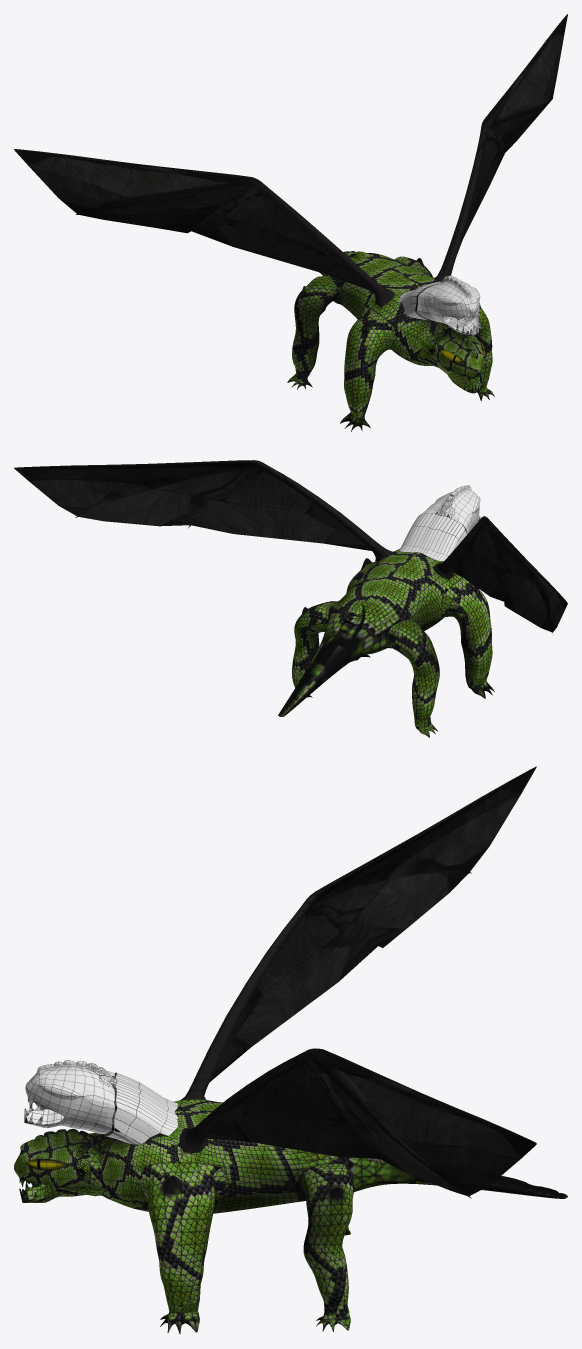
Rendered from monster_000001.obj.
3 renders of one model, top to bottom at view 1: azimuth 30°, elevation 25°; view 2: azimuth 150°, elevation 25°; view 3: azimuth 270°, elevation 25°, orthographic. The views are drawn at different scales.
Visible parts, largest first — view 1: body_Cube, secondHead_Cube.002; view 2: body_Cube, secondHead_Cube.002; view 3: body_Cube, secondHead_Cube.002.
Part boxes in pixels (x1,y1,x2,y2): body_Cube: [14, 14, 567, 431]; secondHead_Cube.002: [398, 275, 481, 335]; body_Cube: [14, 460, 567, 737]; secondHead_Cube.002: [398, 485, 480, 561]; body_Cube: [14, 766, 567, 1334]; secondHead_Cube.002: [24, 1060, 177, 1144].
Size of the model in its own units: 8.88 by 3.62 by 5.51.
